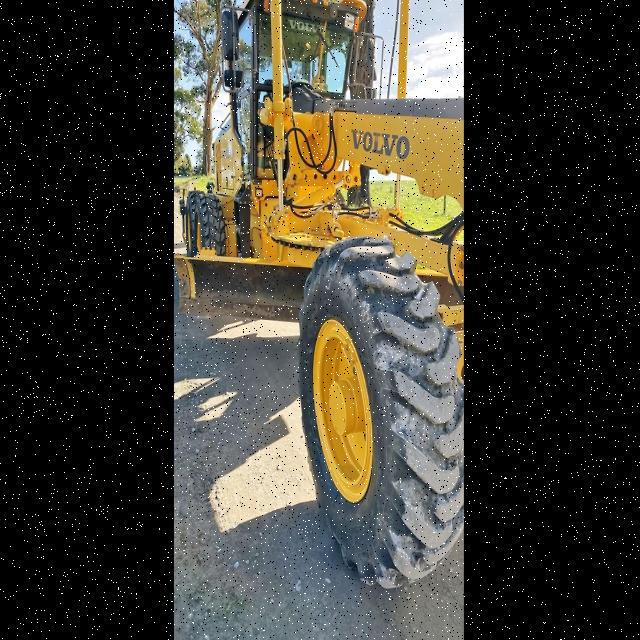Grader: (195, 0, 462, 606)
